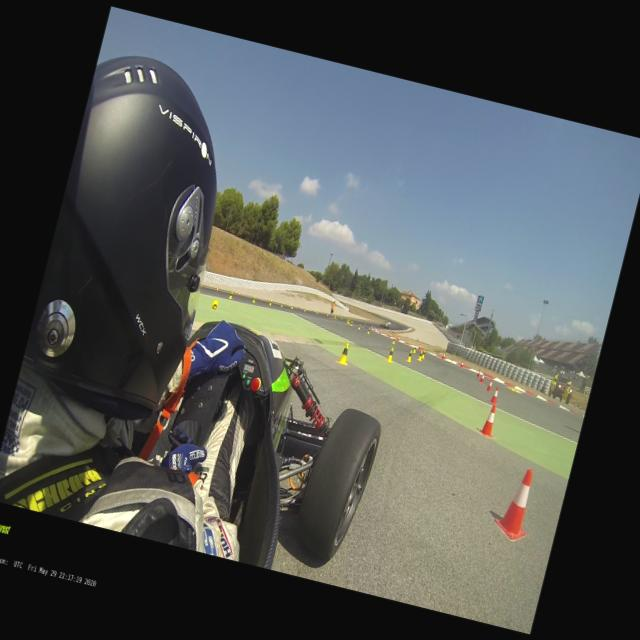orange_cone: (492, 464, 540, 543), (477, 403, 500, 439), (489, 386, 500, 404), (486, 378, 493, 392), (479, 372, 485, 383), (476, 369, 481, 377), (459, 360, 464, 368), (215, 286, 219, 292), (442, 353, 446, 359), (418, 344, 422, 349), (388, 332, 391, 338), (256, 296, 260, 300), (397, 336, 400, 341), (238, 291, 240, 296)
yellow_cone: (335, 340, 351, 366), (385, 346, 395, 362), (210, 298, 218, 310), (406, 349, 412, 362), (417, 351, 424, 362), (419, 349, 426, 359), (412, 344, 417, 353), (228, 290, 233, 298), (391, 336, 396, 344), (356, 324, 362, 329), (366, 327, 370, 334), (252, 296, 256, 303), (268, 300, 272, 306), (279, 302, 283, 307), (290, 304, 294, 309), (302, 307, 306, 312), (350, 320, 352, 326), (348, 320, 350, 324), (334, 314, 336, 318), (326, 312, 328, 316), (316, 310, 318, 314)
